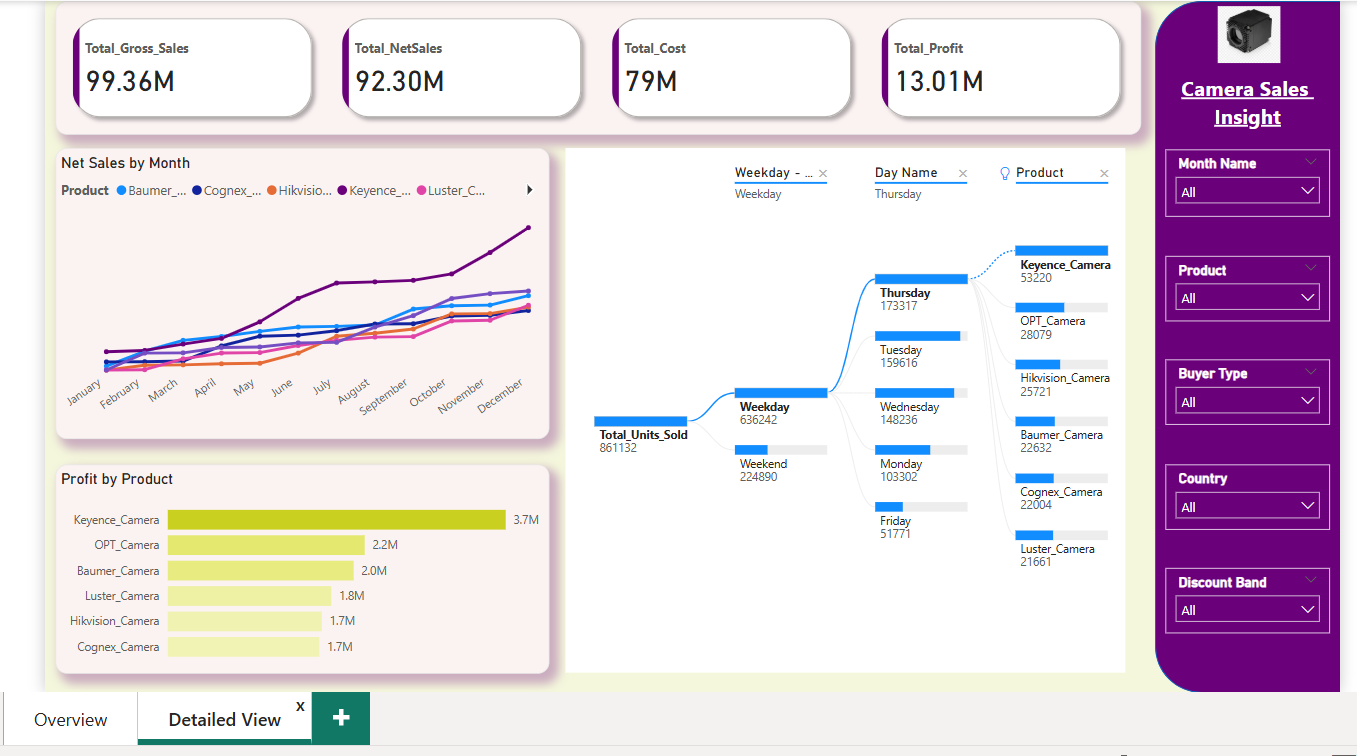

What the dashboard file says about the page in this screenshot:
{"tool":"powerbi","page":{"name":"Detailed View","canvas":[1350,720],"ordinal":1},"visuals":[{"type":"shape","box":[1156.2,0,194.4,721],"z":0},{"type":"cardVisual","fields":{"Data":["Measure_.Total_Gross_Sales","Measure_.Total_NetSales","Measure_.Total_Cost","Measure_.Total_Profit"]},"box":[11.6,0,1131.3,139.5],"z":1000},{"type":"lineChart","title":"Net Sales by Month","fields":{"Category":["Calendar.Date.Variation.Date Hierarchy.Month"],"Y":["Measure_.Net_Sales_YTD"],"Series":["Mediterranean Cameras Company.Product"]},"box":[10.7,153.8,514.8,303.3],"z":2000},{"type":"barChart","title":"Profit by Product","fields":{"Category":["Mediterranean Cameras Company.Product"],"Y":["Measure_.Total_Profit"]},"box":[10.7,482.8,514.8,217.9],"z":3000},{"type":"slicer","fields":{"Values":["Calendar.Month Name"]},"box":[1167.8,154.5,171.1,69.8],"z":4000},{"type":"slicer","fields":{"Values":["Mediterranean Cameras Company.Product"]},"box":[1167.8,265,171.1,68.1],"z":5000},{"type":"slicer","fields":{"Values":["Mediterranean Cameras Company.Buyer Type"]},"box":[1167.8,373.8,171.1,68.1],"z":6000},{"type":"slicer","fields":{"Values":["Mediterranean Cameras Company.Country"]},"box":[1167.8,482.6,171.1,68.1],"z":7000},{"type":"slicer","fields":{"Values":["Mediterranean Cameras Company.Discount Band"]},"box":[1167.8,591.4,171.1,68.1],"z":8000},{"type":"image","box":[1206,0,96.4,69.8],"z":9000},{"type":"textbox","box":[1167.8,69.8,171.1,69.8],"z":10000},{"type":"decompositionTreeVisual","fields":{"Analyze":["Measure_.Total_Units_Sold"],"ExplainBy":["Calendar.Weekday - Weekend","Calendar.Day Name","Mediterranean Cameras Company.Product"]},"box":[542.6,153.8,583.1,546.8],"z":11000}]}

Visuals, with their boxes on the page's 1350x720 design canvas (x1, y1, x2, y2). These are canvas units, not pixel positions in the 1357x756 screenshot, which may show the page scaled, cropped or inside an application window:
shape: box(1156, 0, 1351, 721)
cardVisual - Measure_.Total_Gross_Sales x Measure_.Total_NetSales: box(12, 0, 1143, 140)
"Net Sales by Month" lineChart: box(11, 154, 526, 457)
"Profit by Product" barChart: box(11, 483, 526, 701)
slicer - Calendar.Month Name: box(1168, 154, 1339, 224)
slicer - Mediterranean Cameras Company.Product: box(1168, 265, 1339, 333)
slicer - Mediterranean Cameras Company.Buyer Type: box(1168, 374, 1339, 442)
slicer - Mediterranean Cameras Company.Country: box(1168, 483, 1339, 551)
slicer - Mediterranean Cameras Company.Discount Band: box(1168, 591, 1339, 660)
image: box(1206, 0, 1302, 70)
textbox: box(1168, 70, 1339, 140)
decompositionTreeVisual - Measure_.Total_Units_Sold x Calendar.Weekday - Weekend: box(543, 154, 1126, 701)
